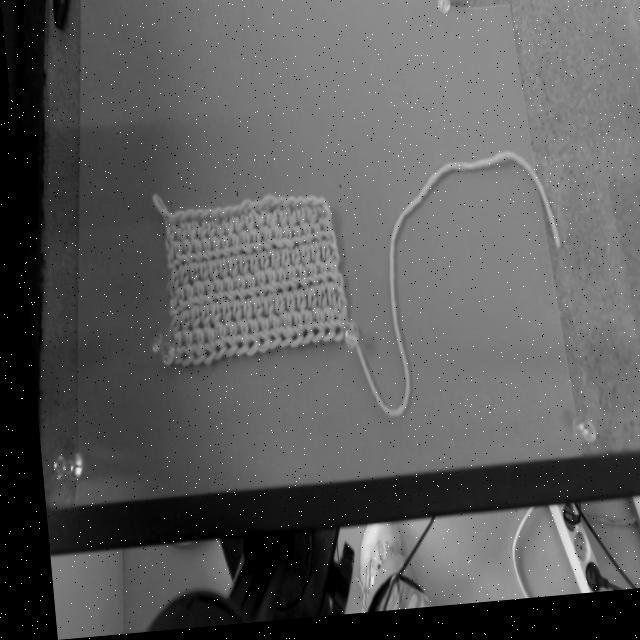ch: (250, 200, 270, 215), (163, 213, 181, 225), (237, 204, 255, 216), (261, 201, 281, 211), (200, 212, 216, 223), (212, 211, 228, 222), (233, 204, 246, 217), (184, 212, 199, 223), (173, 213, 189, 223), (193, 212, 208, 222), (223, 208, 236, 219), (275, 202, 290, 211), (284, 202, 299, 211), (293, 202, 309, 210), (306, 203, 319, 208)
hdc: (205, 325, 220, 364), (238, 322, 254, 358), (227, 322, 242, 360), (313, 312, 329, 347), (292, 314, 307, 350), (185, 331, 199, 369), (216, 323, 230, 361), (282, 315, 296, 352), (172, 332, 186, 368), (250, 320, 264, 356), (304, 313, 318, 349), (258, 271, 273, 304), (272, 314, 285, 352), (195, 330, 208, 367), (236, 277, 251, 309), (248, 273, 262, 307), (260, 319, 274, 352), (203, 304, 215, 341), (195, 282, 208, 315), (244, 229, 256, 264), (324, 317, 338, 347), (270, 271, 283, 303), (320, 286, 331, 323), (300, 267, 313, 298), (227, 277, 239, 310), (296, 226, 309, 256), (315, 223, 330, 249), (290, 268, 302, 300), (165, 242, 178, 271), (274, 251, 285, 285), (176, 240, 187, 274), (186, 282, 198, 313), (206, 281, 218, 312), (289, 290, 300, 323), (256, 297, 267, 330), (216, 279, 228, 309), (310, 264, 322, 294), (300, 288, 310, 324), (315, 244, 326, 276), (234, 234, 246, 263), (195, 241, 207, 270), (259, 212, 273, 236), (185, 242, 197, 270), (254, 231, 266, 259), (266, 229, 278, 257), (224, 236, 235, 266), (162, 271, 173, 301), (215, 303, 225, 336), (264, 251, 274, 283), (222, 257, 232, 289), (268, 296, 278, 328), (183, 307, 193, 339), (161, 316, 173, 342), (286, 250, 296, 281), (173, 264, 183, 295), (280, 270, 290, 301), (247, 299, 257, 330), (174, 311, 184, 342), (214, 239, 225, 267), (205, 240, 216, 268), (305, 245, 315, 275), (320, 267, 331, 294), (279, 294, 289, 323), (311, 287, 320, 319), (225, 220, 238, 242), (287, 229, 297, 257), (243, 255, 253, 283), (213, 258, 221, 293), (233, 257, 242, 288), (170, 224, 182, 247), (307, 228, 318, 253), (253, 255, 264, 280), (177, 286, 188, 311), (311, 209, 324, 230), (195, 306, 203, 340), (277, 230, 287, 257), (203, 261, 212, 291), (236, 301, 245, 331), (226, 303, 235, 333), (199, 223, 210, 247), (190, 224, 201, 248), (179, 225, 191, 247), (300, 211, 312, 233), (168, 288, 178, 314), (184, 264, 192, 296), (295, 248, 304, 276), (330, 293, 339, 321), (194, 262, 202, 293), (208, 222, 219, 244), (238, 215, 249, 237), (248, 215, 259, 237), (273, 212, 282, 236), (218, 223, 228, 243), (282, 212, 291, 234), (292, 212, 300, 235)
